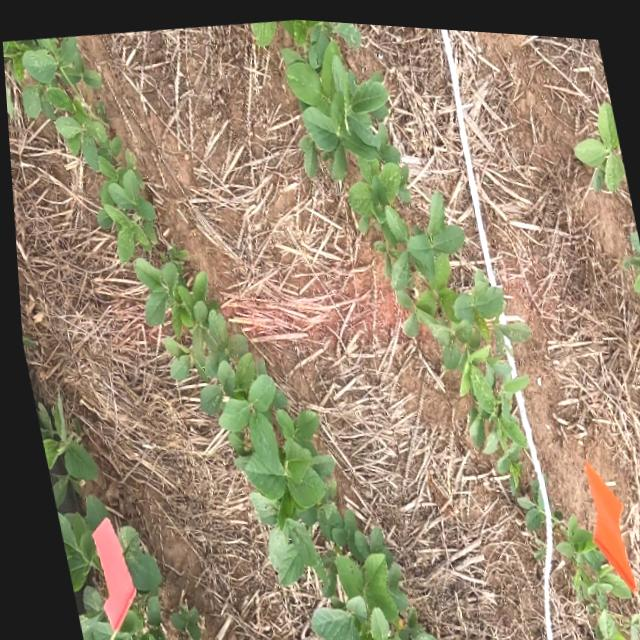soy_plant: (132, 247, 430, 640), (280, 16, 529, 485), (2, 36, 154, 260), (31, 400, 104, 640), (551, 510, 640, 639), (103, 525, 192, 640), (573, 95, 624, 184), (510, 473, 539, 523), (625, 223, 640, 284), (251, 18, 275, 42)
